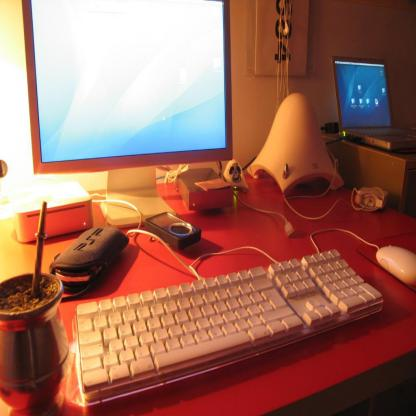board: (330, 56, 414, 149)
